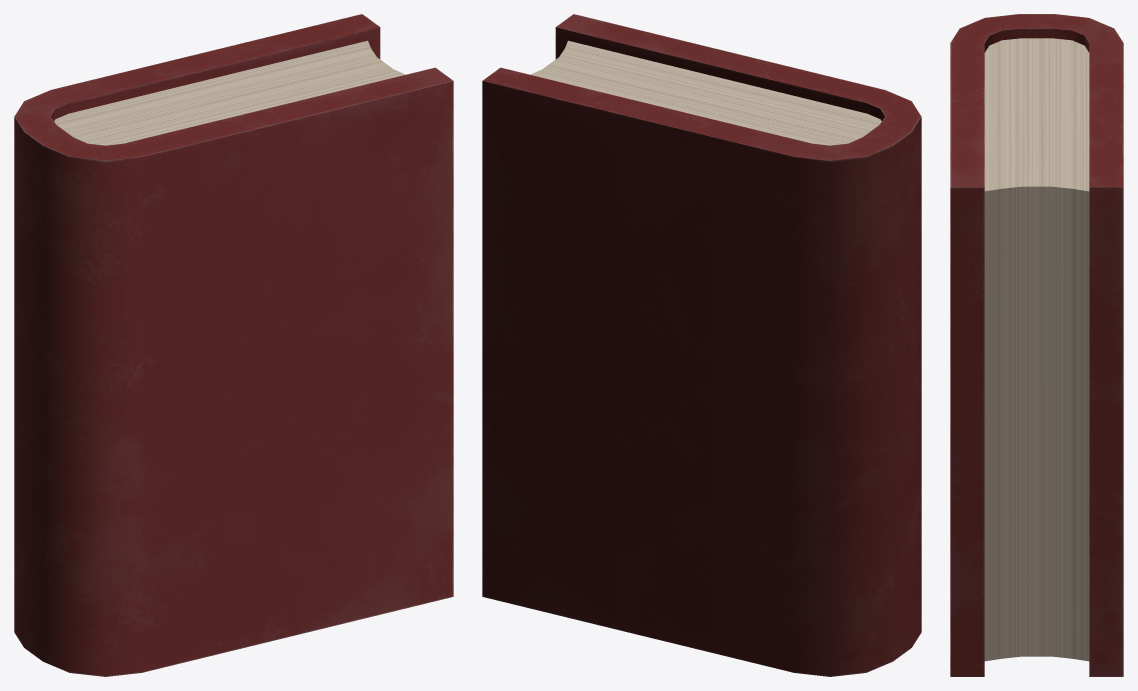
The model's file is Book.FBX.
3 renders of one model, left to right at view 1: azimuth 30°, elevation 25°; view 2: azimuth 150°, elevation 25°; view 3: azimuth 270°, elevation 25°, orthographic. The views are drawn at different scales.
Parts seen in each view (by area): view 1: Book; view 2: Book; view 3: Book.
Part boxes in pixels (left/top/right/bottom): Book: left=14, top=14, right=453, bottom=676; Book: left=482, top=14, right=921, bottom=676; Book: left=950, top=14, right=1123, bottom=676.
Size of the model in its own units: 68.59 by 90.36 by 28.97.
